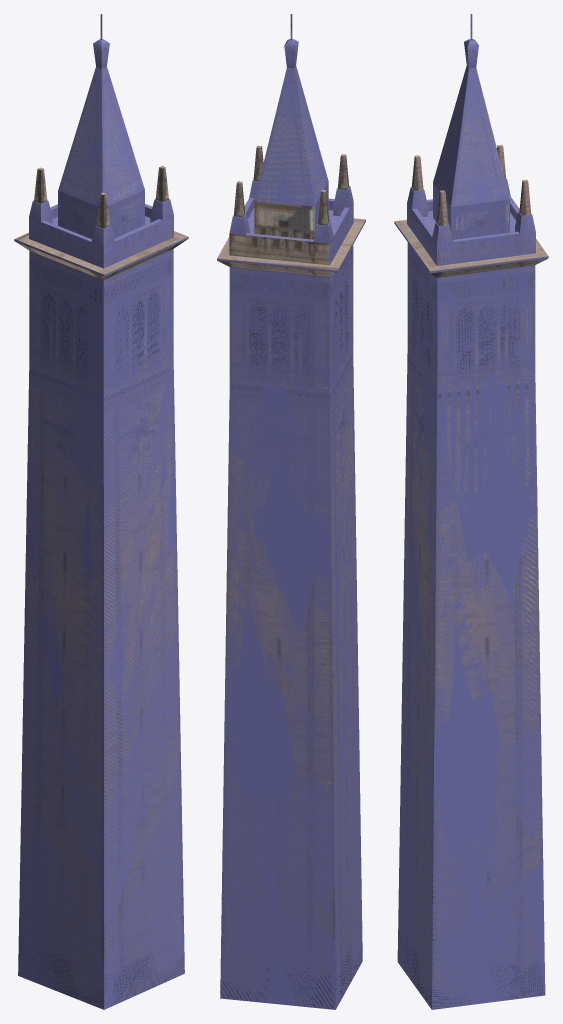
Rendered from SatherTower Model.dae.
The picture shows the model from 3 angles, left to right: view 1: azimuth 30°, elevation 25°; view 2: azimuth 150°, elevation 25°; view 3: azimuth 270°, elevation 25°; orthographic projection.
Parts seen in each view (by area): view 1: SketchUp (×3); view 2: SketchUp (×3); view 3: SketchUp (×3).
Boxes of the visible parts, <box> form: SketchUp (×3): <box>14,39,188,1009</box>; SketchUp (×3): <box>217,39,365,1009</box>; SketchUp (×3): <box>394,39,548,1009</box>.
Bounding box in the file's own units: 540 × 540 × 3726.
